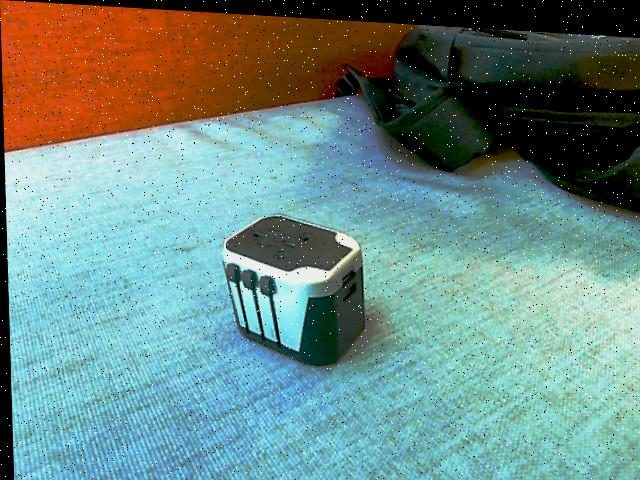adapter: (218, 208, 365, 365)
